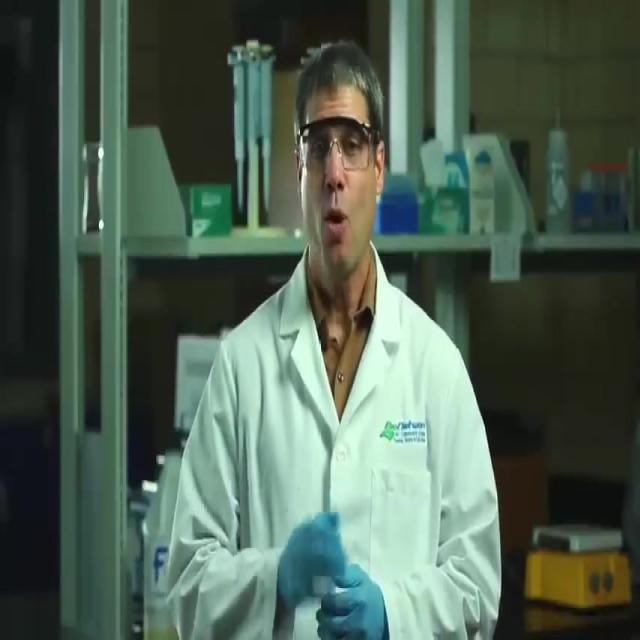googles: (298, 110, 371, 173)
labcoat: (165, 233, 503, 640)
